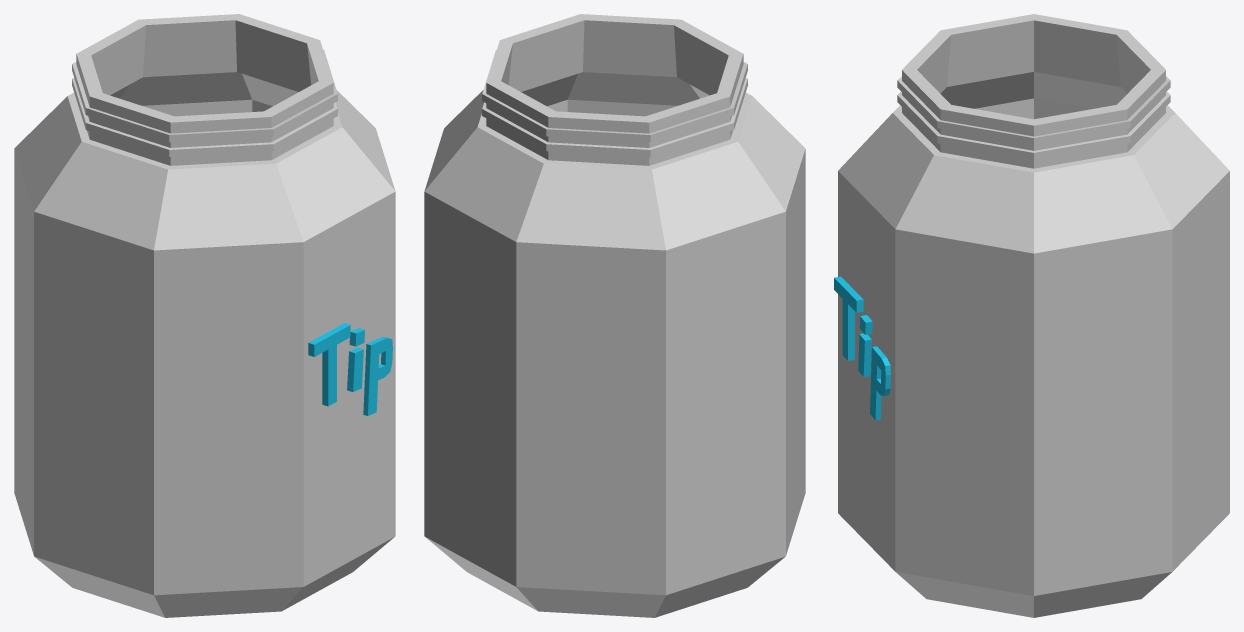
File: Tip_Jar_01.gltf
The picture shows the model from 3 angles, left to right: view 1: azimuth 30°, elevation 25°; view 2: azimuth 150°, elevation 25°; view 3: azimuth 270°, elevation 25°; orthographic projection.
Parts seen in each view (by area): view 1: node-0; view 2: node-0; view 3: node-0.
Part boxes in pixels (x1,y1,x2,y2): node-0: [14, 14, 395, 617]; node-0: [424, 14, 805, 617]; node-0: [834, 14, 1229, 617].
Size of the model in its own units: 10 by 13.62 by 10.1.
